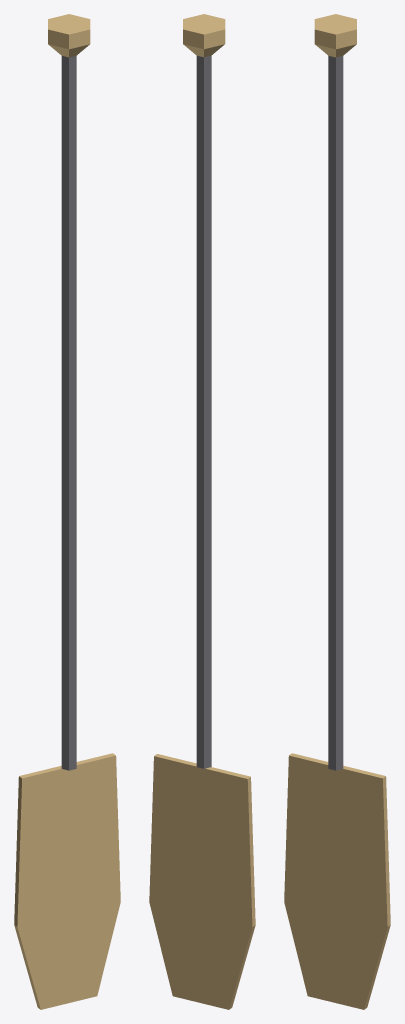
The model's file is paddlesingle.glb.
3 renders of one model, left to right at view 1: azimuth 30°, elevation 25°; view 2: azimuth 150°, elevation 25°; view 3: azimuth 330°, elevation 25°, orthographic.
Visible parts, largest first — view 1: PaddleSingle_blade, PaddleSingle_shaft, PaddleSingle_grip; view 2: PaddleSingle_blade, PaddleSingle_shaft, PaddleSingle_grip; view 3: PaddleSingle_blade, PaddleSingle_shaft, PaddleSingle_grip.
Part boxes in pixels (x1,y1,x2,y2): PaddleSingle_blade: (14,753,120,1009); PaddleSingle_shaft: (61,55,76,770); PaddleSingle_grip: (48,14,90,57); PaddleSingle_blade: (149,754,255,1009); PaddleSingle_shaft: (196,55,211,768); PaddleSingle_grip: (183,14,225,57); PaddleSingle_blade: (284,753,390,1009); PaddleSingle_shaft: (328,55,343,770); PaddleSingle_grip: (314,14,356,57).
Size of the model in its own units: 0.22 by 1.99 by 0.0779.
